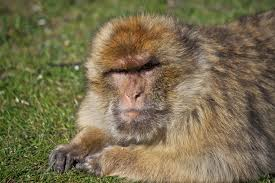monkey: (70, 15, 275, 175)
